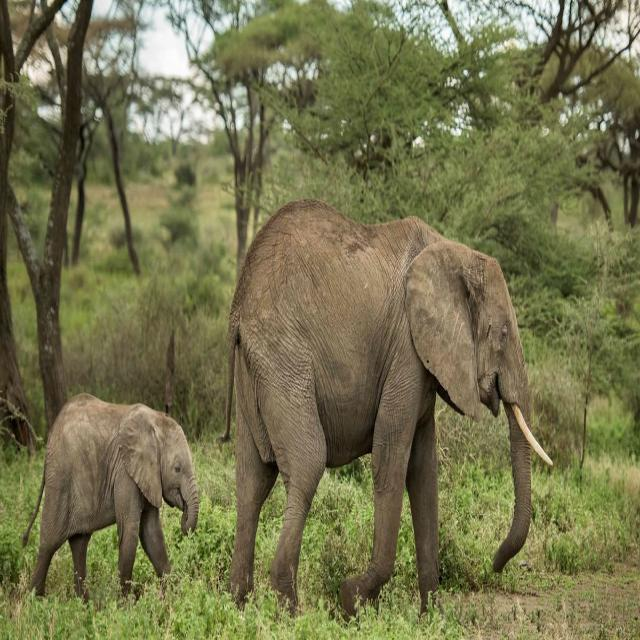elephant: (228, 200, 552, 615), (25, 394, 198, 599)
